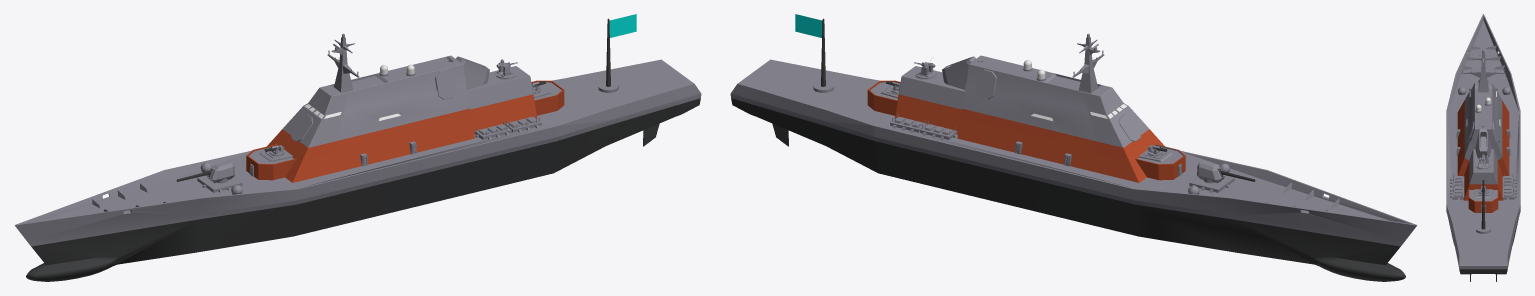
Rendered from kecil _merah.fbx.
3 views of the same model, side by side, from view 1: azimuth 30°, elevation 25°; view 2: azimuth 150°, elevation 25°; view 3: azimuth 270°, elevation 25° (orthographic). The views are drawn at different scales.
Parts seen in each view (by area): view 1: polySurface1883, polySurface1883.001, Plane.001, Cylinder.006; view 2: polySurface1883, polySurface1883.001, Plane.001, Cylinder.006; view 3: polySurface1883, Cylinder.006, polySurface1883.002, Sphere.001.
Part boxes in pixels (x1,y1,x2,y2): polySurface1883: (14, 33, 701, 281); polySurface1883.001: (176, 160, 234, 183); Plane.001: (609, 14, 636, 37); Cylinder.006: (598, 18, 618, 92); polySurface1883: (730, 33, 1417, 281); polySurface1883.001: (1197, 160, 1255, 183); Plane.001: (795, 14, 822, 37); Cylinder.006: (813, 18, 833, 92); polySurface1883: (1446, 14, 1520, 281); Cylinder.006: (1476, 180, 1490, 233); polySurface1883.002: (1476, 152, 1490, 169); Sphere.001: (1502, 87, 1510, 95).
Size of the model in its own units: 36.43 by 9.34 by 4.83.
